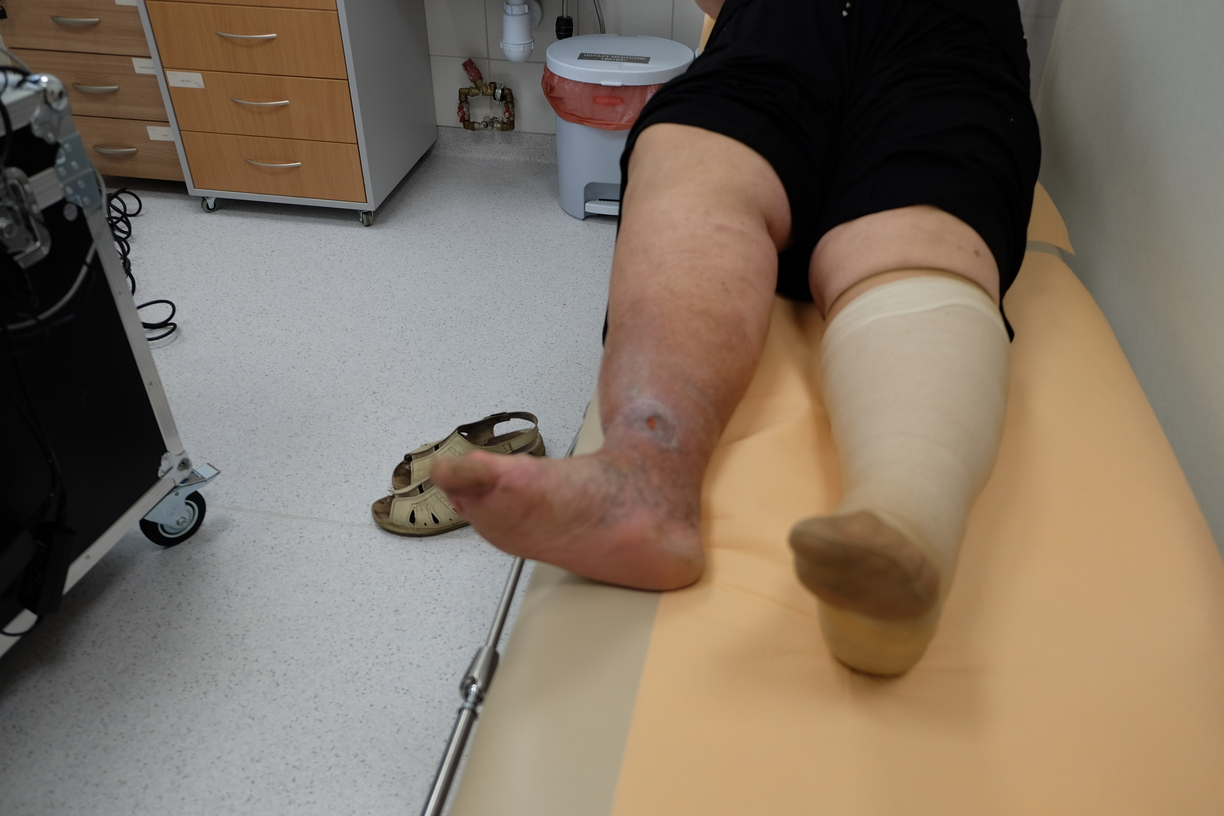wound: (642, 409, 661, 435)
